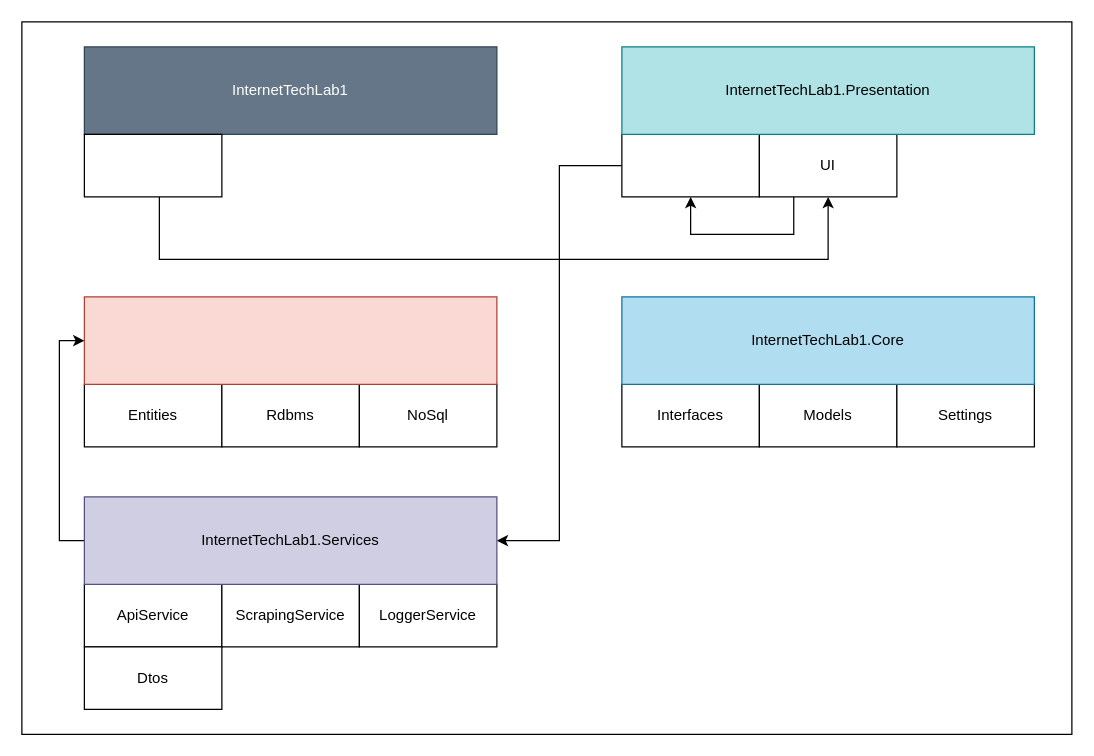
Some shapes in this 1094 by 756 pixel diagram are drawn without their labels. The centre of each missing label's shape, as x and y in pixels:
Commands: point 690,165
InternetTechLab1.Data: point 290,340
Program.cs: point 152,165
